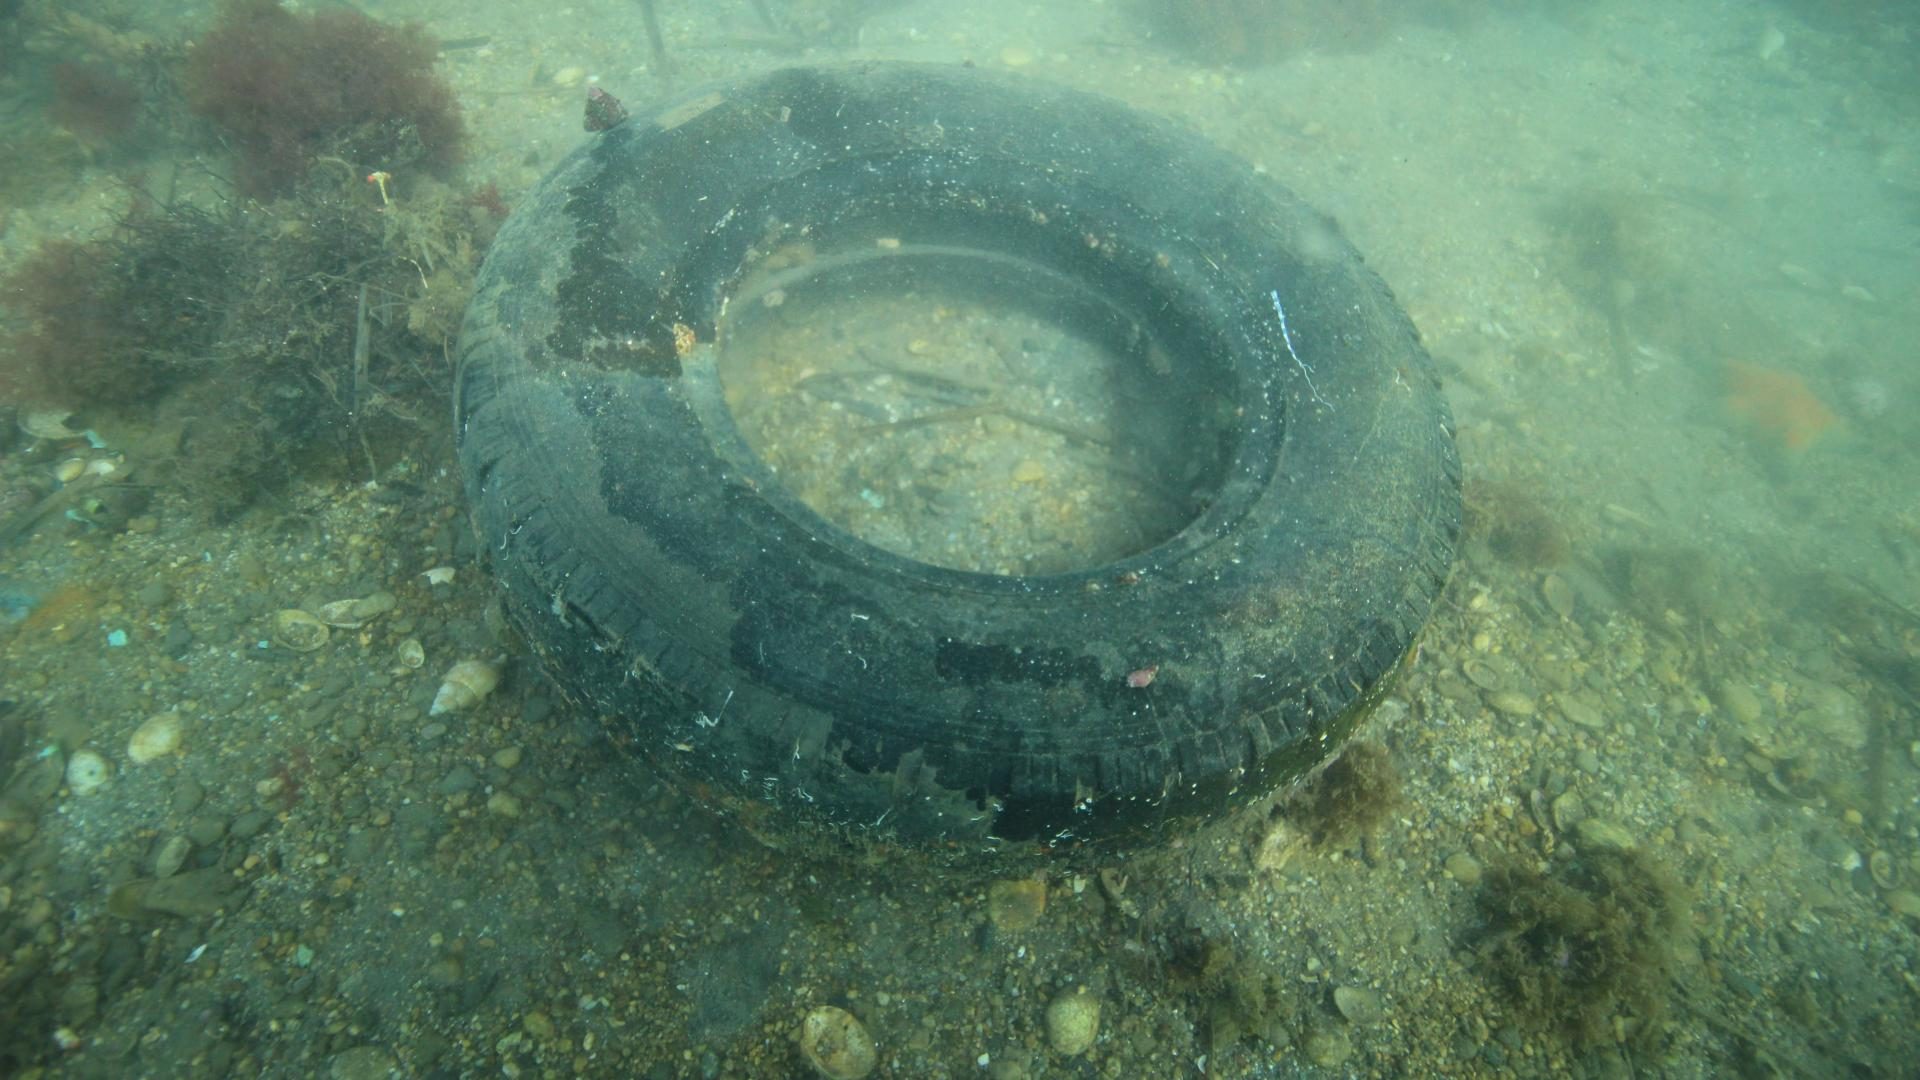tire: (448, 55, 1470, 887)
